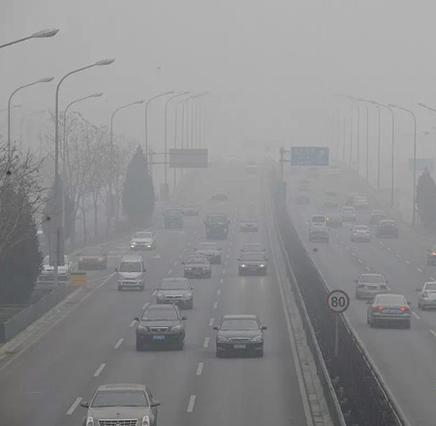bus: (202, 213, 231, 240), (161, 207, 185, 230)
car: (79, 384, 160, 426), (132, 301, 188, 350), (212, 314, 268, 358), (365, 293, 412, 329), (152, 278, 195, 310), (114, 254, 147, 291), (35, 253, 72, 282), (353, 273, 391, 299), (181, 254, 214, 279), (76, 245, 108, 270), (236, 252, 269, 275), (192, 242, 223, 265), (129, 231, 155, 253), (240, 242, 267, 263), (416, 282, 436, 310), (307, 223, 331, 244), (375, 220, 400, 239), (238, 215, 262, 233), (206, 192, 229, 210), (346, 192, 369, 210), (349, 224, 372, 241), (368, 209, 388, 226), (340, 207, 360, 224), (320, 190, 338, 208), (181, 200, 201, 216), (425, 247, 436, 265)
